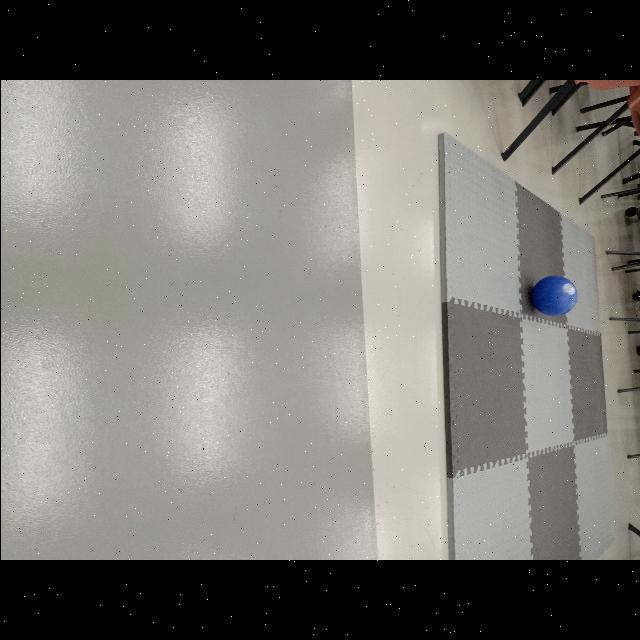B: (526, 274, 576, 316)
